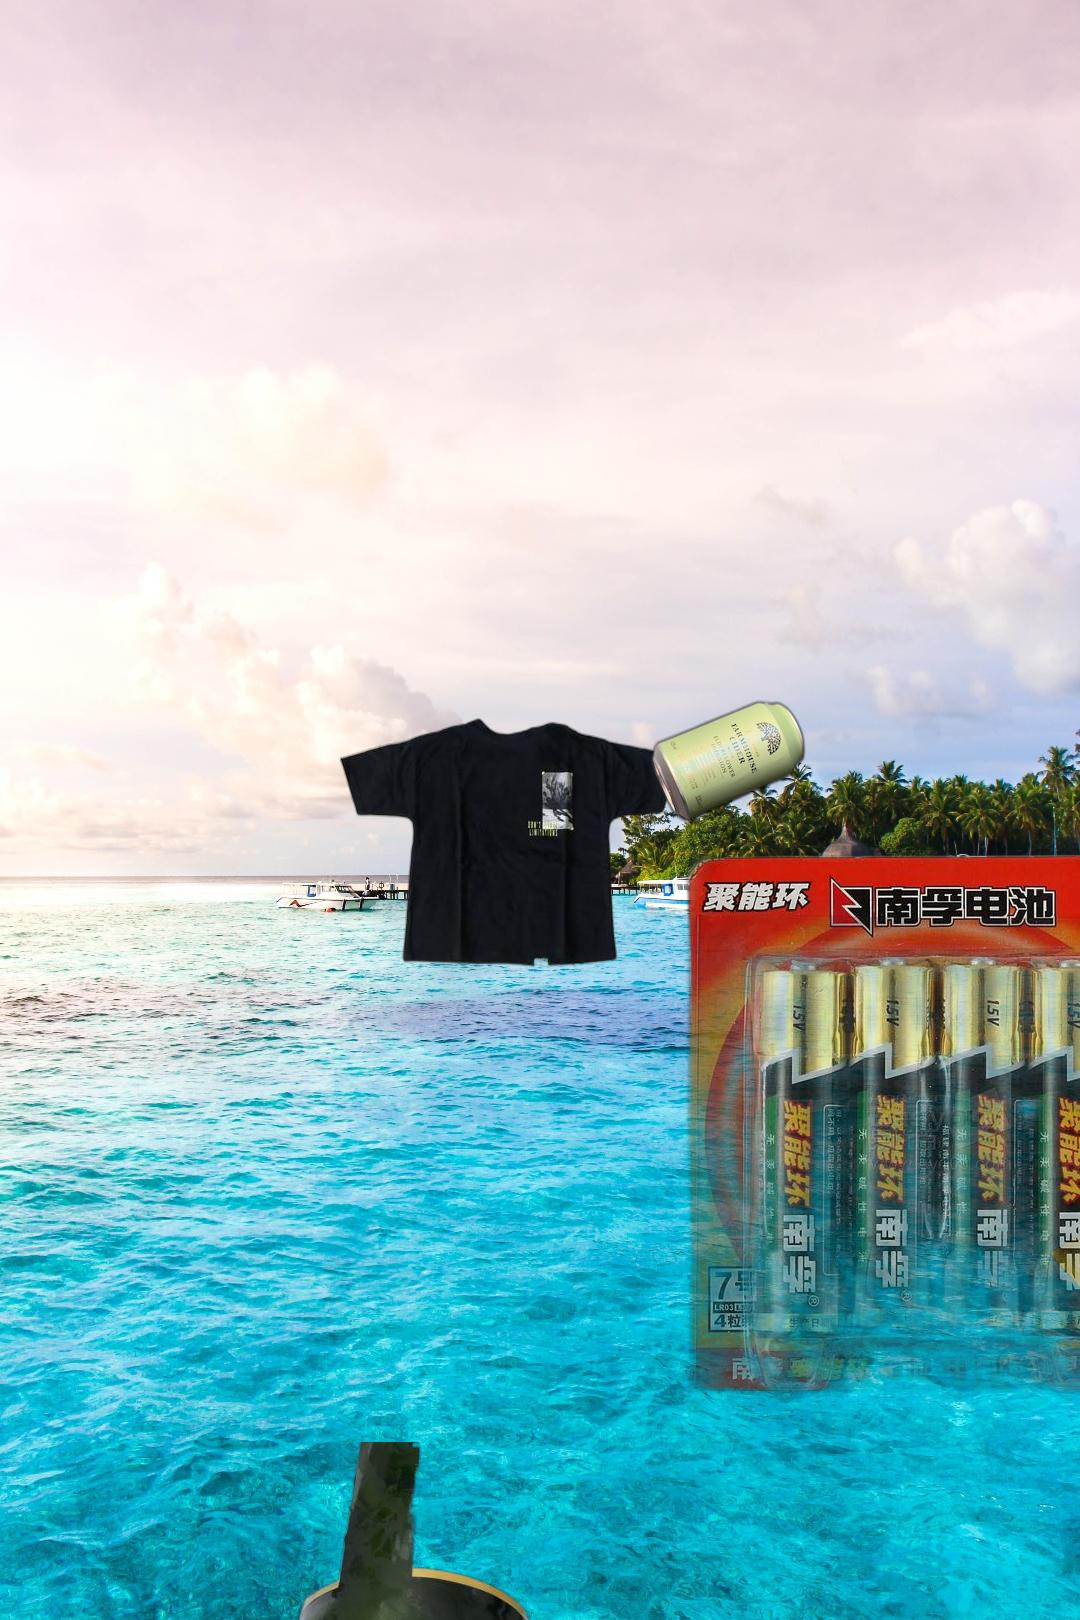battery: (651, 843, 1080, 1421)
clothes: (338, 714, 678, 977)
glass: (283, 1442, 538, 1620)
metal-cans: (647, 696, 809, 827)
plastic-bag: (1047, 1106, 1080, 1379)
